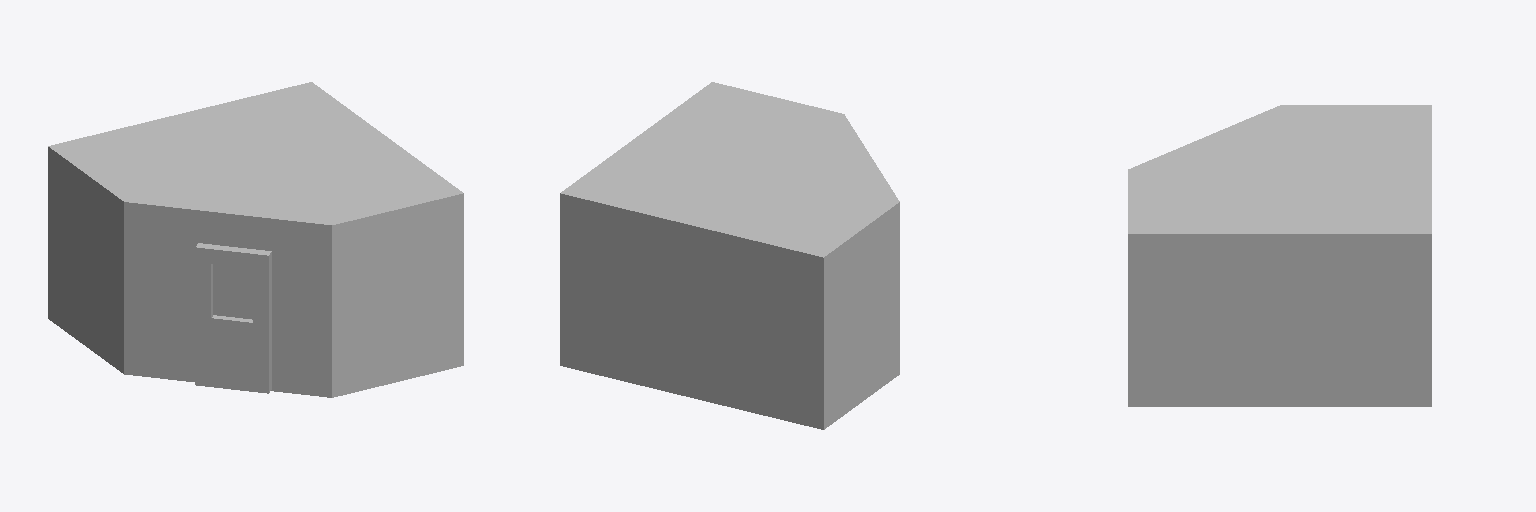
File: modularBuildings_038b.obj
3 renders of one model, left to right at view 1: azimuth 30°, elevation 25°; view 2: azimuth 150°, elevation 25°; view 3: azimuth 270°, elevation 25°, orthographic.
Parts seen in each view (by area): view 1: Mesh1_Group1_Model.001; view 2: Mesh1_Group1_Model.001; view 3: Mesh1_Group1_Model.001.
Part boxes in pixels (left/top/right/bottom): Mesh1_Group1_Model.001: left=48, top=82, right=463, bottom=397; Mesh1_Group1_Model.001: left=560, top=82, right=899, bottom=429; Mesh1_Group1_Model.001: left=1128, top=105, right=1431, bottom=406.
Size of the model in its own units: 1 by 0.625 by 1.